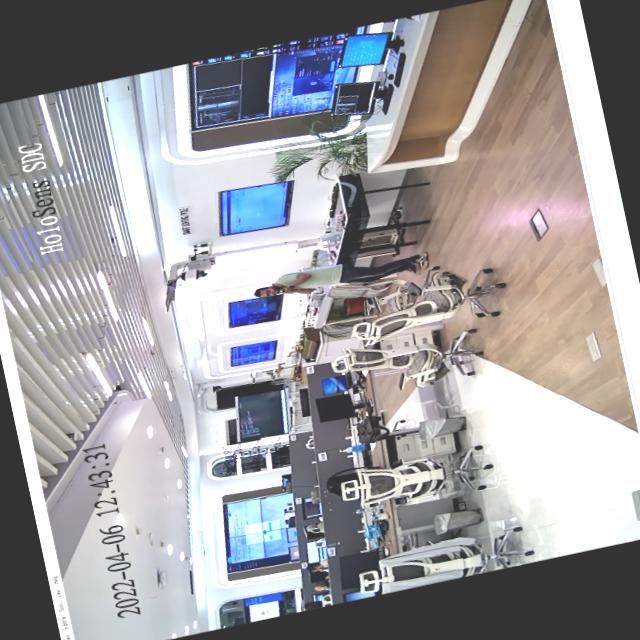long weapon: (268, 278, 310, 298)
